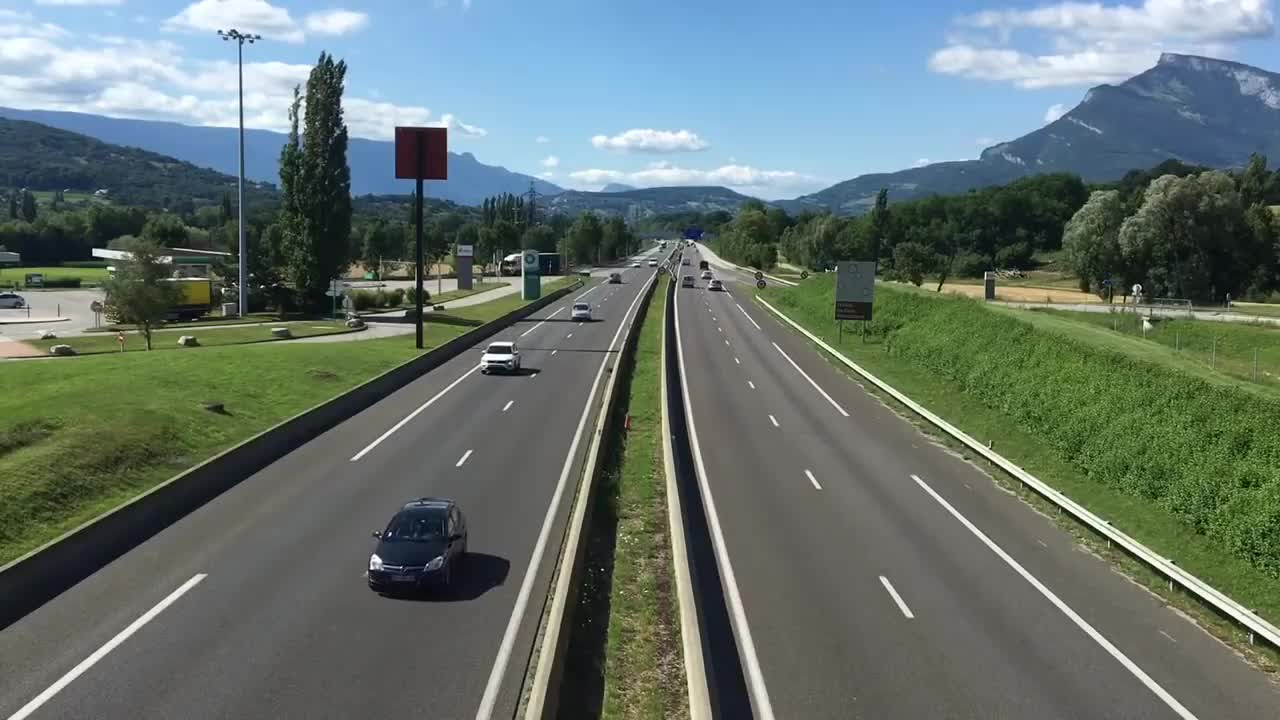car: (364, 483, 478, 604), (466, 329, 538, 382), (563, 294, 608, 334)
